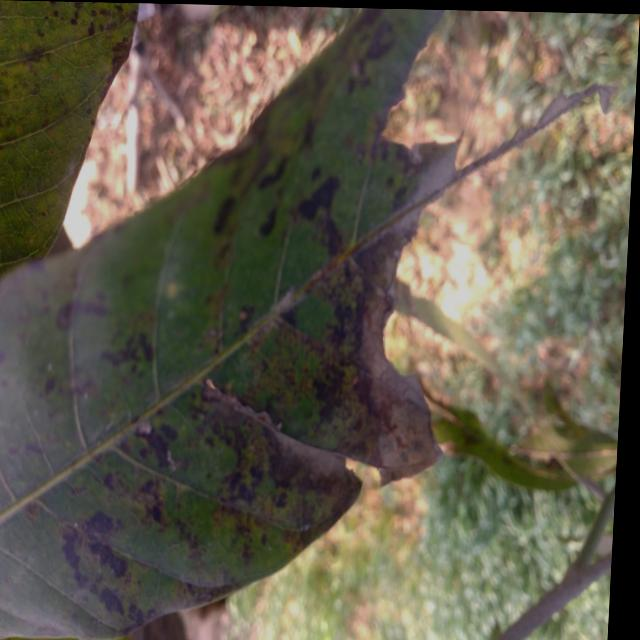Anthracnose: (69, 509, 127, 582), (100, 328, 159, 381), (295, 173, 349, 225), (50, 290, 108, 333), (85, 535, 133, 579), (363, 18, 401, 66), (255, 155, 294, 193), (96, 584, 128, 620), (212, 194, 237, 235), (257, 204, 283, 238), (87, 510, 113, 533), (45, 375, 55, 395), (0, 349, 6, 364)
Bacterial Cancer: (386, 139, 465, 227), (378, 385, 434, 481)
